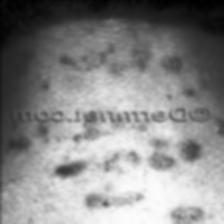Non-Cancerous Skin Condition: (0, 137, 200, 224), (45, 51, 186, 75), (207, 116, 224, 135)
